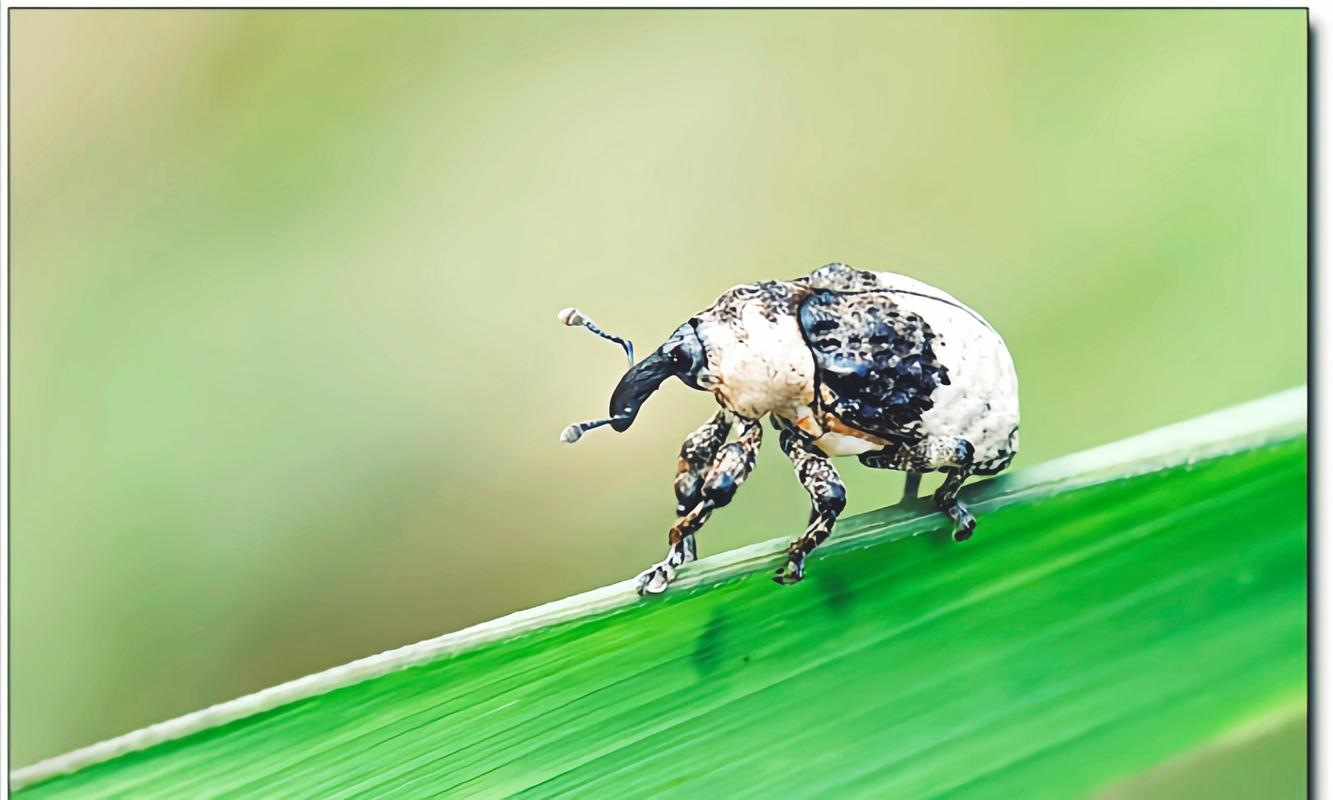Curculionidae: (558, 261, 1023, 601)
